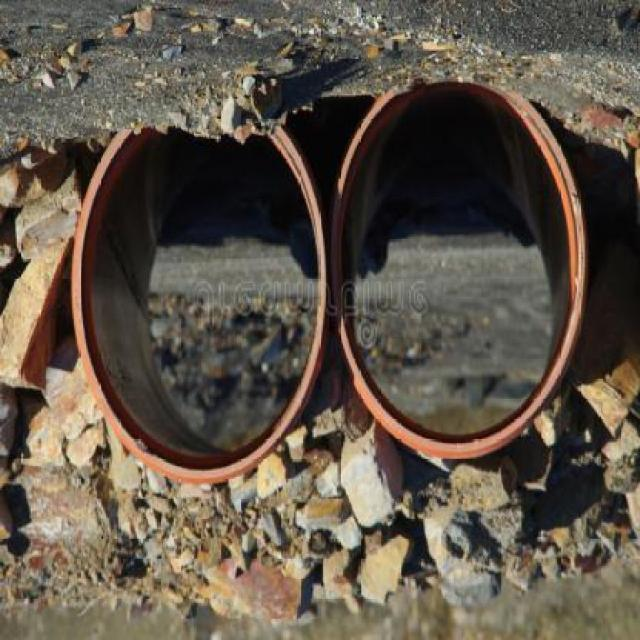pipe: (72, 112, 328, 483), (335, 85, 588, 453)
